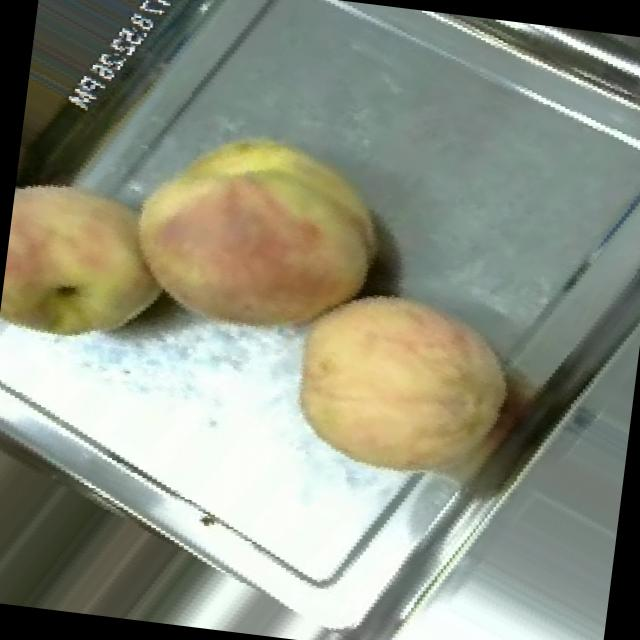Fruit: (86, 86, 424, 390), (254, 240, 548, 528), (0, 144, 194, 386)
